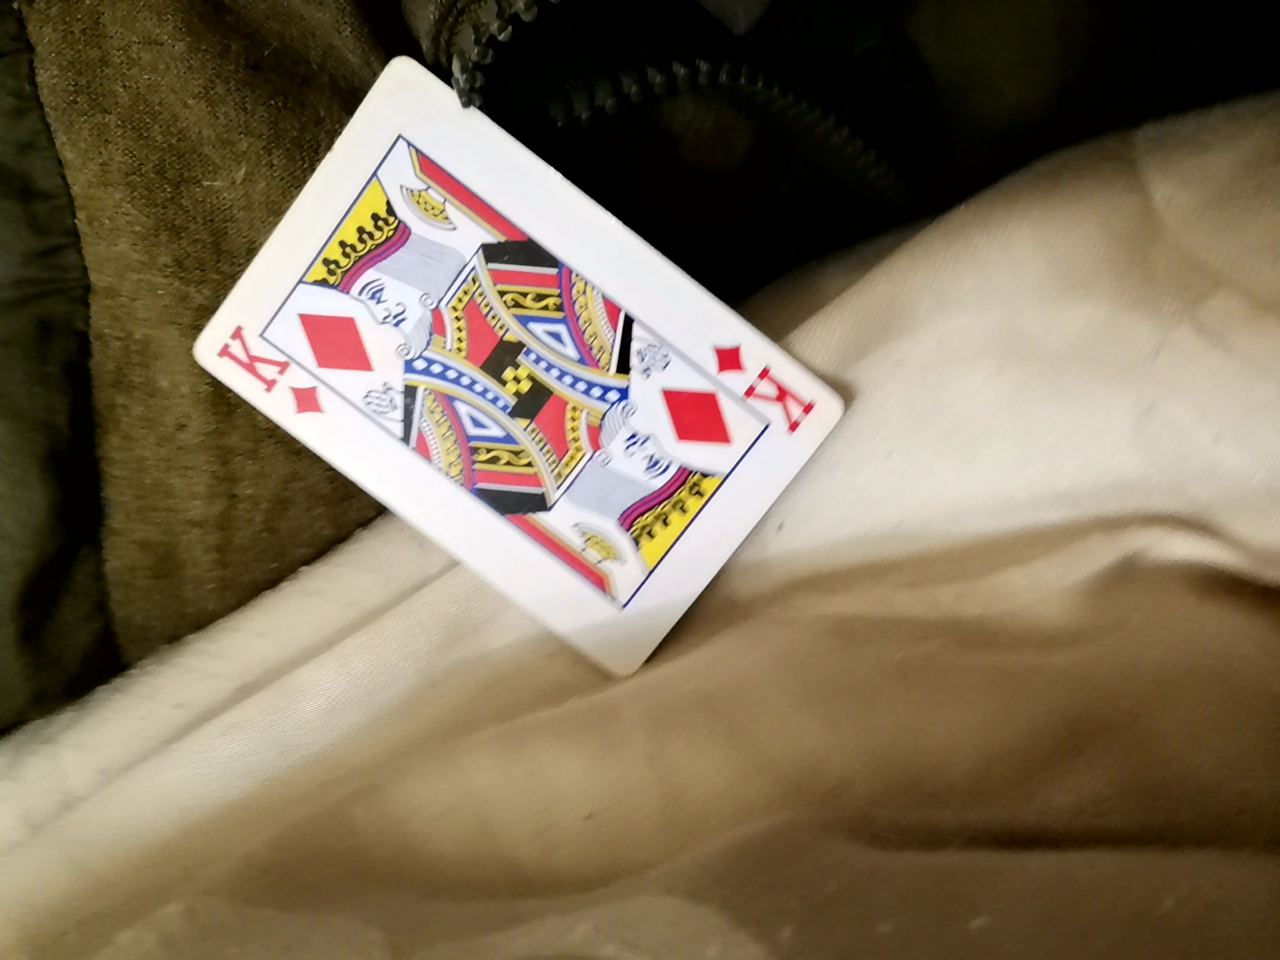fk k: (152, 20, 834, 636)
